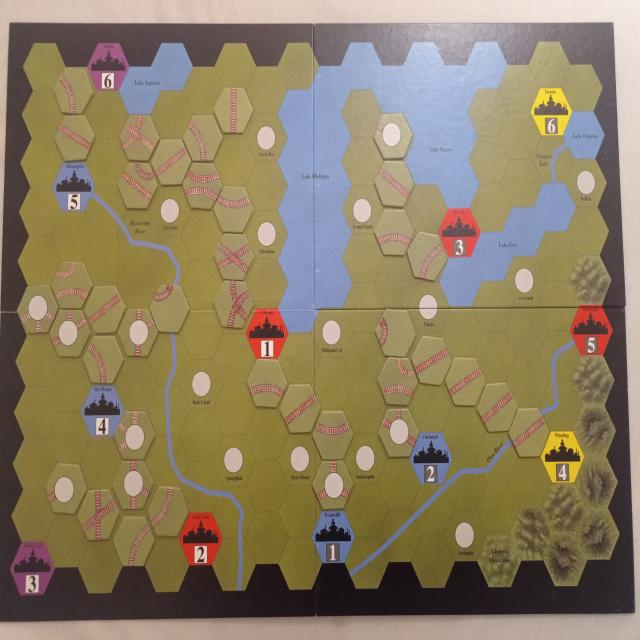10_4: (118, 309, 157, 358)
10_5: (378, 409, 418, 457)
11_0: (312, 460, 353, 510)
12_1: (17, 285, 58, 333)
12_5: (114, 411, 155, 460)
13_0: (374, 113, 412, 159)
13_1: (46, 464, 86, 513)
14_1: (50, 309, 89, 357)
14_5: (112, 460, 154, 510)
15_5: (53, 261, 92, 308)
1_4: (149, 285, 190, 333)
1_5: (376, 308, 414, 356)
24_0: (119, 66, 162, 115)
2_0: (247, 359, 287, 407), (374, 209, 413, 255)
2_1: (114, 516, 154, 567), (408, 232, 447, 281)
2_3: (312, 412, 353, 459), (213, 186, 253, 233)
2_4: (148, 487, 189, 537)
2_5: (83, 336, 124, 384), (183, 115, 222, 163), (54, 68, 94, 114)
3_0: (510, 408, 550, 458), (84, 285, 124, 334), (412, 335, 451, 385), (445, 358, 484, 406), (478, 380, 515, 430), (282, 385, 320, 433), (153, 138, 190, 186)
3_1: (214, 87, 252, 134)
3_2: (375, 161, 414, 208), (54, 116, 95, 160)
4_3: (118, 162, 157, 210)
5_3: (377, 357, 419, 408)
6_0: (183, 162, 221, 212)
7_2: (213, 280, 253, 328)
8_5: (120, 114, 158, 161)
9_0: (214, 234, 253, 280)
9_1: (79, 490, 119, 539)
